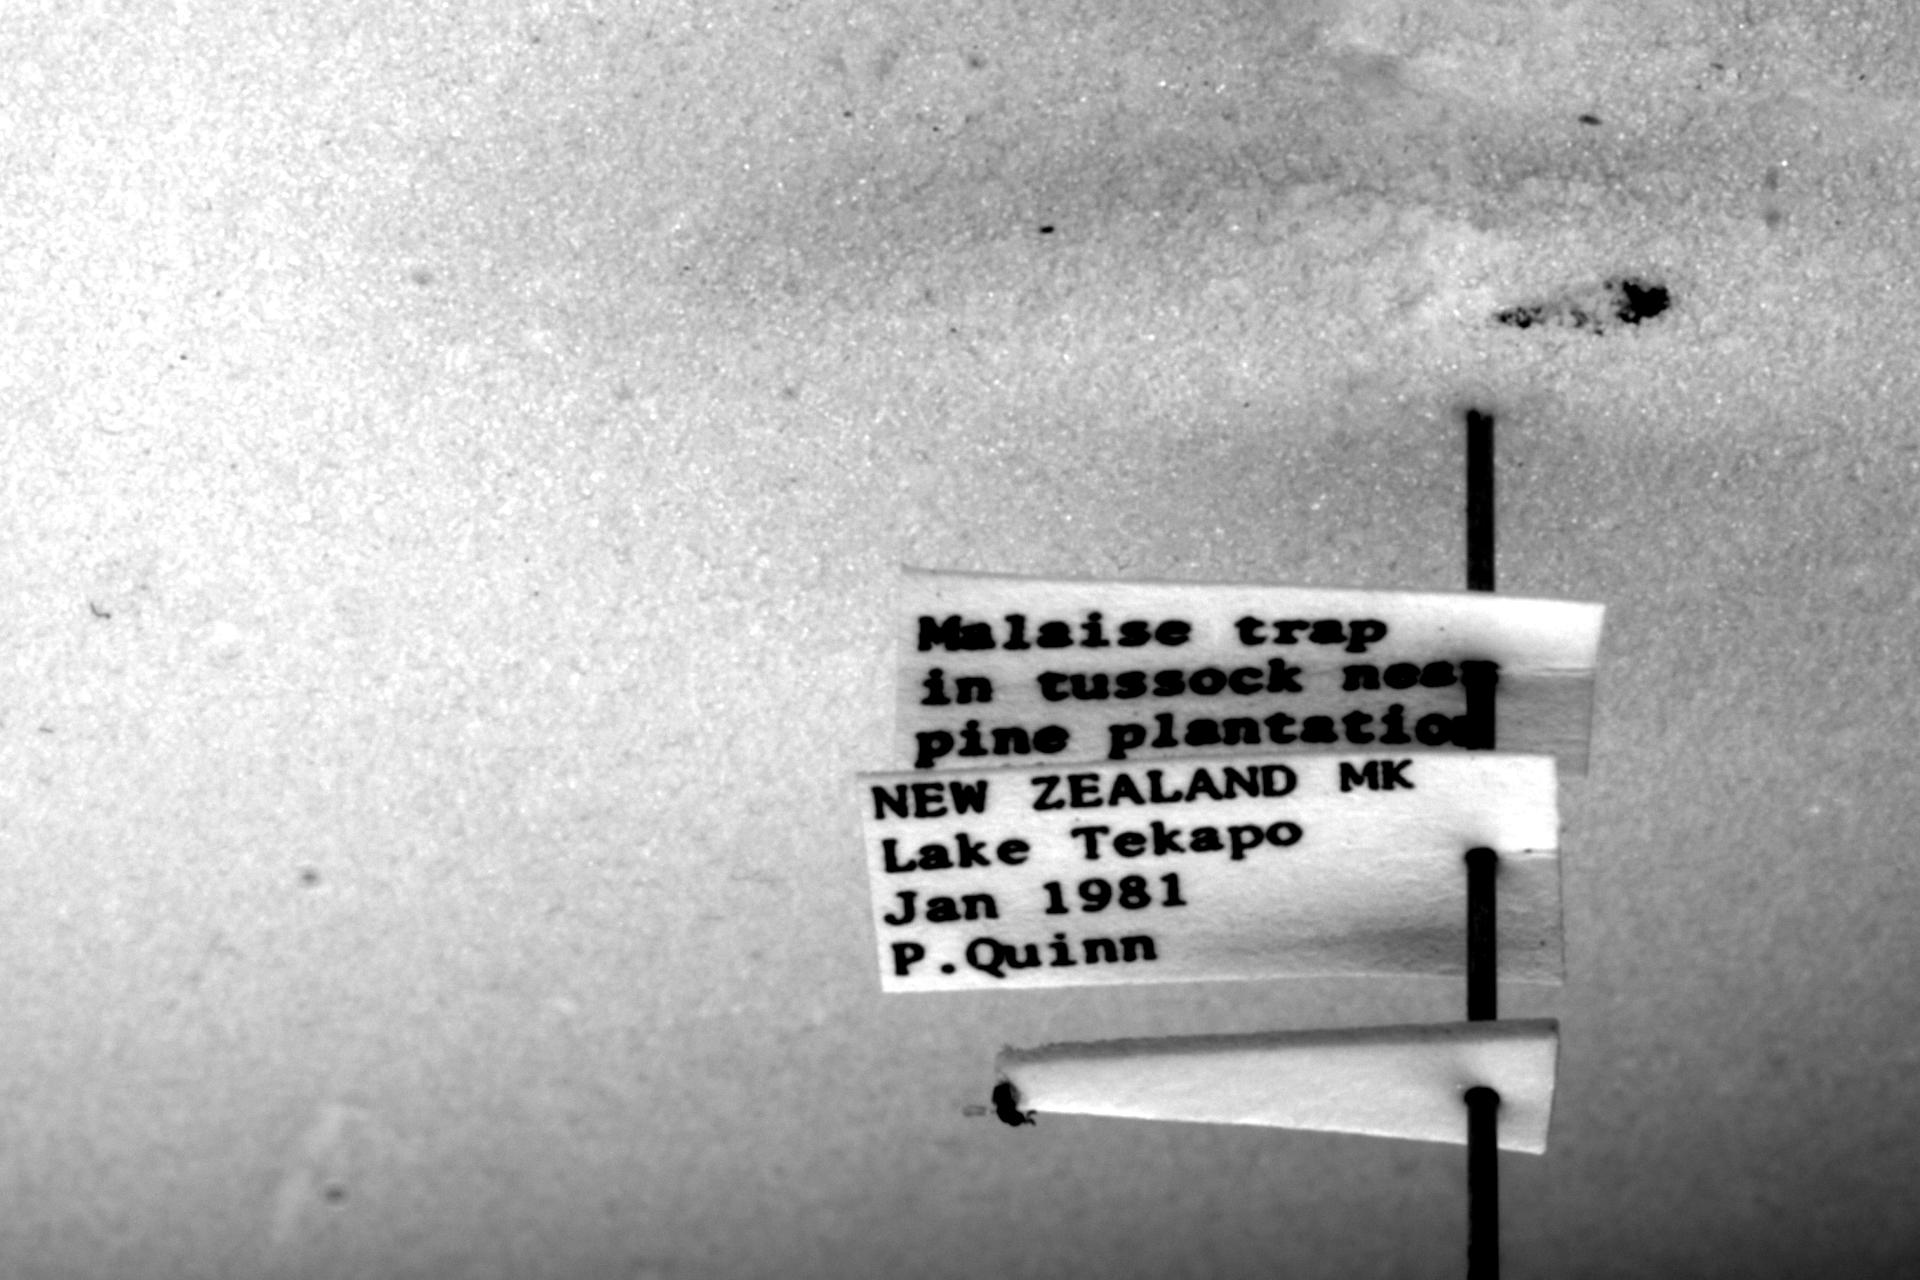typed_label: (859, 754, 1564, 994), (896, 570, 1606, 776)
